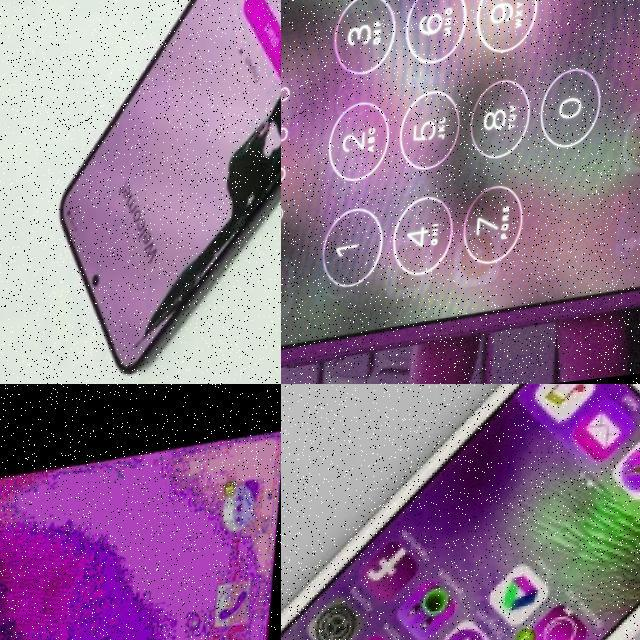dead pixel: (0, 417, 281, 640), (116, 60, 281, 384)
